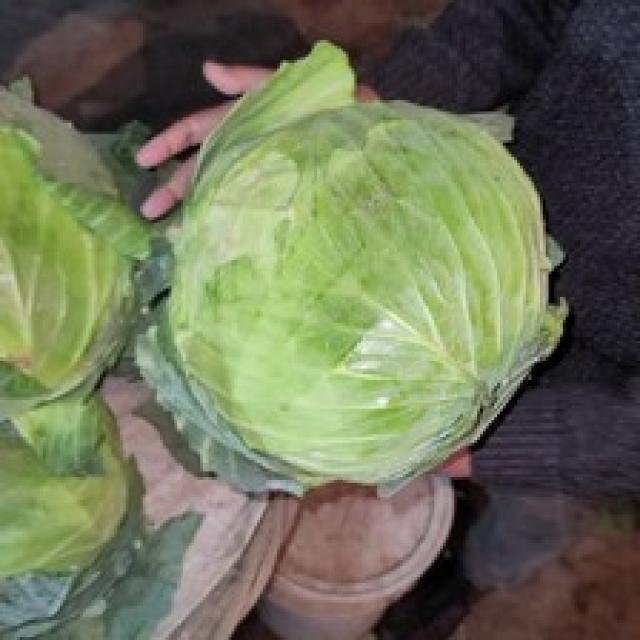Cabbage: (134, 37, 569, 500)
